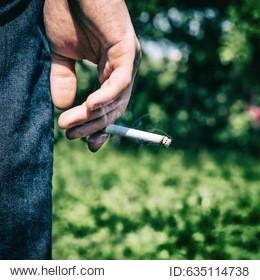Cigarette: (106, 124, 170, 146)
